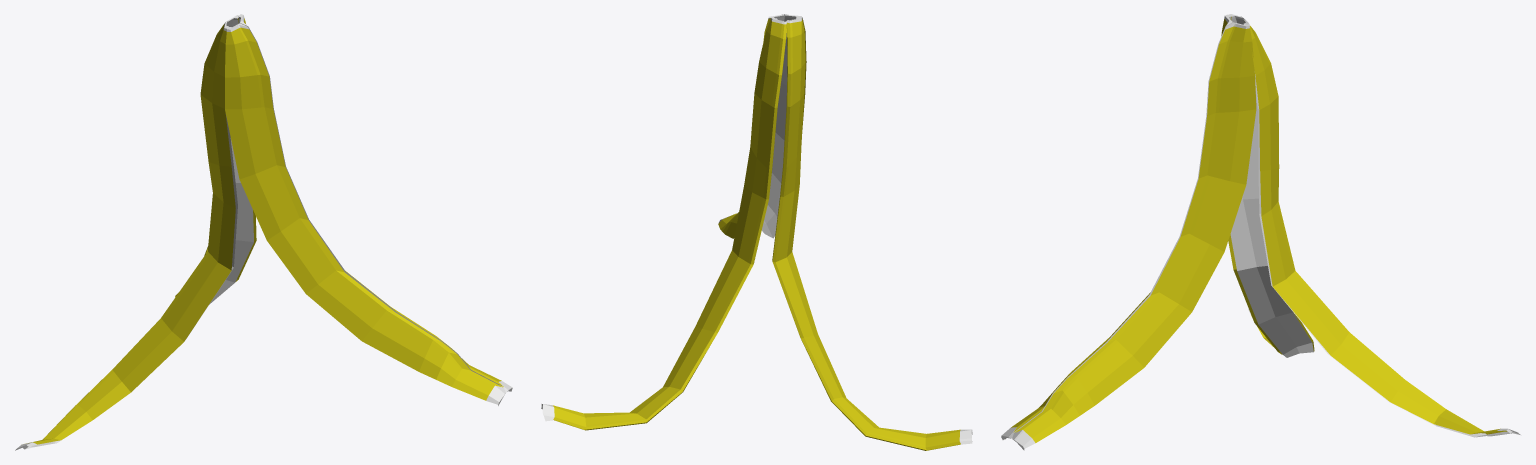
File: banana.fbx
3 views of the same model, side by side, from view 1: azimuth 30°, elevation 25°; view 2: azimuth 150°, elevation 25°; view 3: azimuth 270°, elevation 25° (orthographic). The views are drawn at different scales.
Visible parts, largest first — view 1: Plane.001, Plane.003, Plane.002, Plane; view 2: Plane.002, Plane.003, Plane.001, Plane; view 3: Plane, Plane.002, Plane.003, Plane.001.
Part boxes in pixels (box(x1,y1,x2,y2)): Plane.001: box(225, 23, 505, 405); Plane.003: box(15, 21, 237, 450); Plane.002: box(175, 15, 256, 304); Plane: box(238, 14, 512, 392); Plane.002: box(541, 18, 786, 430); Plane.003: box(772, 17, 972, 450); Plane.001: box(761, 14, 806, 238); Plane: box(718, 14, 784, 238); Plane: box(1012, 22, 1256, 450); Plane.002: box(1243, 19, 1520, 437); Plane.003: box(1228, 14, 1314, 357); Plane.001: box(1001, 14, 1232, 439).
Bounding box in the file's own units: 1263 × 1254 × 1455.
